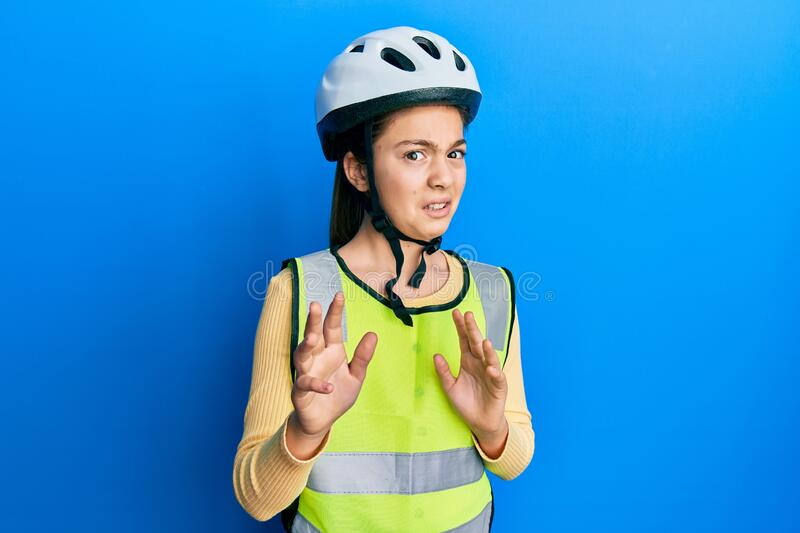helmet: (317, 26, 482, 256)
